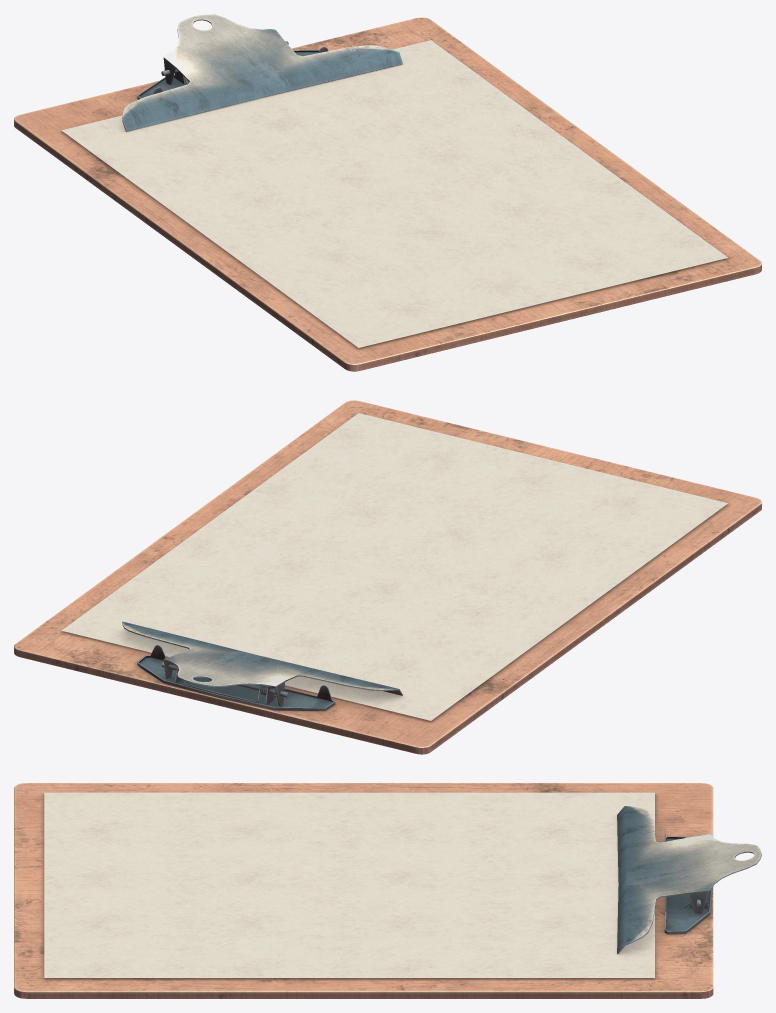
The model's file is ClipBoard.fbx.
3 renders of one model, top to bottom at view 1: azimuth 30°, elevation 25°; view 2: azimuth 150°, elevation 25°; view 3: azimuth 270°, elevation 25°, orthographic. The views are drawn at different scales.
Visible parts, largest first — view 1: page, board_1; view 2: page, board_1; view 3: page, board_1.
Boxes of the visible parts, box(x1,y1,x2,y2) form: page: box(61, 40, 727, 347); board_1: box(14, 14, 761, 371); page: box(61, 413, 727, 720); board_1: box(14, 400, 761, 754); page: box(44, 792, 654, 977); board_1: box(14, 783, 761, 998).
Bounding box in the file's own units: 89.12 × 8.26 × 135.
Materials: 3 (3 with a texture image).
